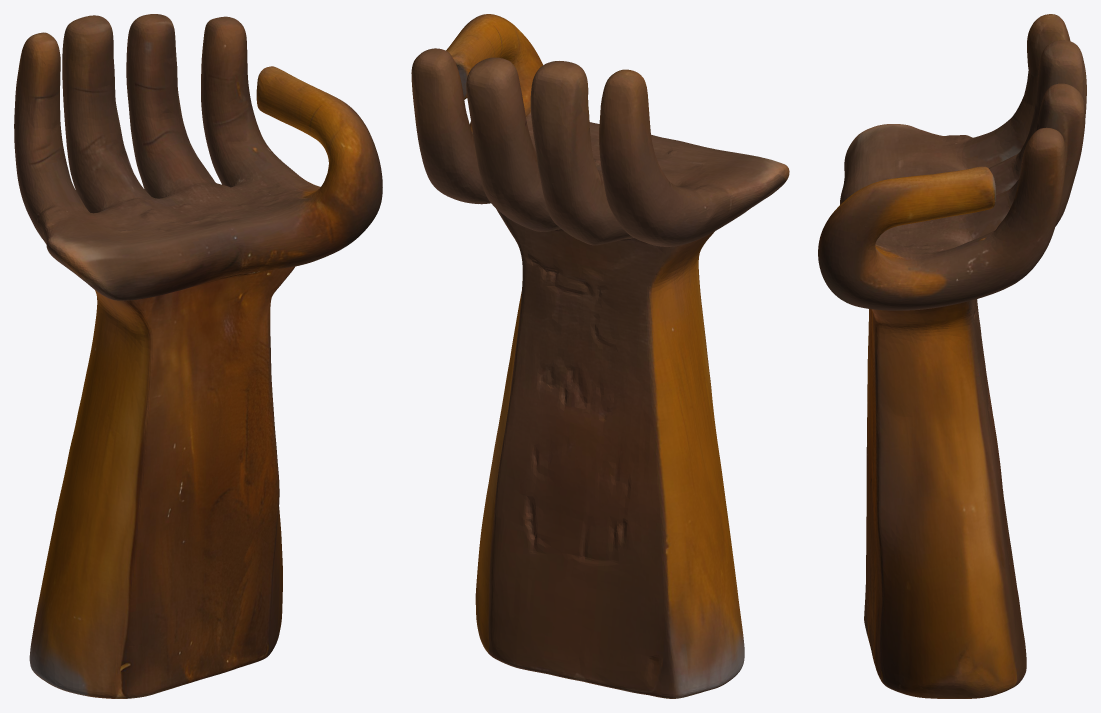
The model's file is c06_handchair_s0.glb.
The picture shows the model from 3 angles, left to right: view 1: azimuth 30°, elevation 25°; view 2: azimuth 150°, elevation 25°; view 3: azimuth 270°, elevation 25°; orthographic projection. The views are drawn at different scales.
Parts seen in each view (by area): view 1: textured.obj; view 2: textured.obj; view 3: textured.obj.
Part boxes in pixels (bbox=[...]): textured.obj: bbox=[14, 14, 382, 698]; textured.obj: bbox=[411, 14, 789, 698]; textured.obj: bbox=[818, 14, 1086, 698].
Size of the model in its own units: 1.06 by 1.99 by 0.8074.
Materials: 1 (1 with a texture image).
